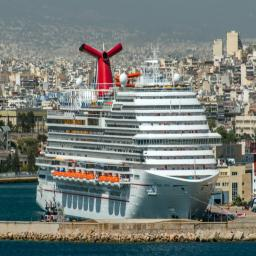cruises: (35, 44, 224, 226)
